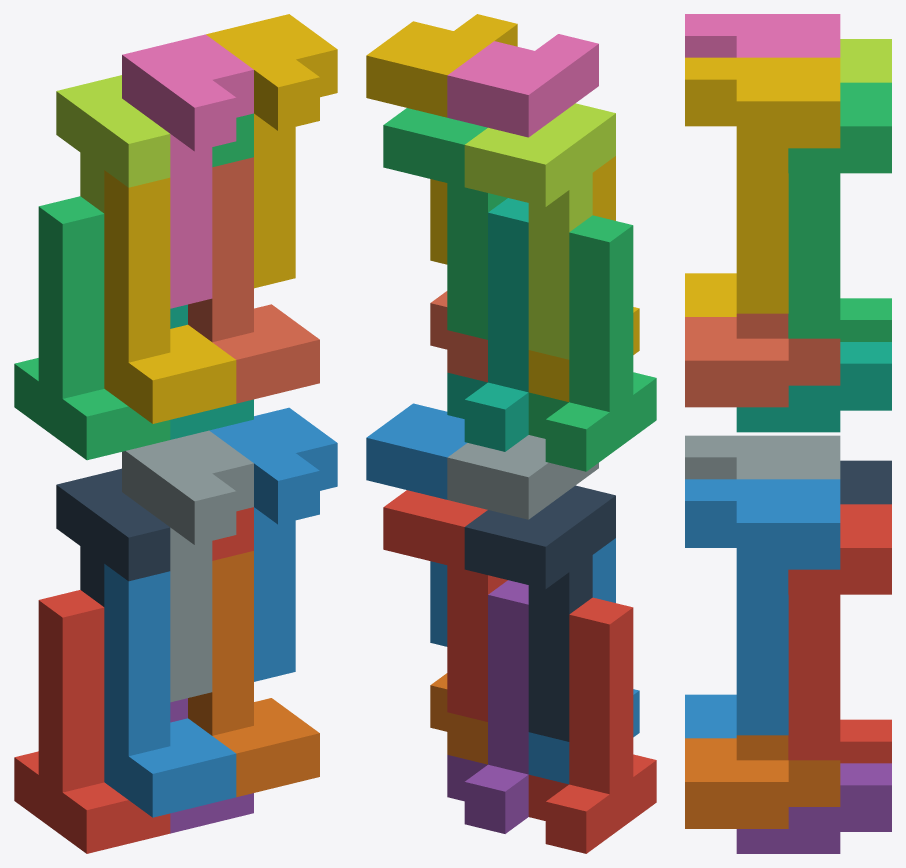
File: tiling.obj
3 renders of one model, left to right at view 1: azimuth 30°, elevation 25°; view 2: azimuth 150°, elevation 25°; view 3: azimuth 270°, elevation 25°, orthographic. The views are drawn at different scales.
Visible parts, largest first — view 1: copy_1_domain_4, copy_1_domain_2, copy_1_domain_1, copy_1_domain_3, copy_2_domain_4, copy_2_domain_2, copy_2_domain_8, copy_2_domain_6, copy_1_domain_8, copy_1_domain_6, copy_2_domain_3, copy_2_domain_1 (+4 smaller); view 2: copy_1_domain_1, copy_1_domain_3, copy_2_domain_1, copy_2_domain_3, copy_1_domain_7, copy_1_domain_5, copy_2_domain_5, copy_2_domain_7, copy_2_domain_4, copy_2_domain_8, copy_2_domain_6, copy_2_domain_2 (+4 smaller); view 3: copy_2_domain_8, copy_2_domain_6, copy_2_domain_5, copy_2_domain_7, copy_1_domain_8, copy_1_domain_6, copy_1_domain_7, copy_1_domain_5, copy_2_domain_2, copy_2_domain_4, copy_1_domain_1, copy_1_domain_2 (+4 smaller).
Boxes of the visible parts, x1,y1,x2,y2 form: copy_1_domain_4: (104,170,236,423); copy_1_domain_2: (104,564,236,817); copy_1_domain_1: (14,590,170,853); copy_1_domain_3: (14,196,170,460); copy_2_domain_4: (122,34,253,308); copy_2_domain_2: (122,430,253,702); copy_2_domain_8: (206,14,337,288); copy_2_domain_6: (209,407,337,681); copy_1_domain_8: (188,157,319,403); copy_1_domain_6: (188,551,319,797); copy_2_domain_3: (56,75,170,213); copy_2_domain_1: (56,468,170,606); copy_1_domain_1: (528,597,656,853); copy_1_domain_3: (528,215,656,471); copy_2_domain_1: (464,485,615,741); copy_2_domain_3: (464,103,615,359); copy_1_domain_7: (447,198,528,451); copy_1_domain_5: (447,580,528,833); copy_2_domain_5: (383,490,507,721); copy_2_domain_7: (383,108,507,339); copy_2_domain_4: (447,34,598,137); copy_2_domain_8: (366,14,517,264); copy_2_domain_6: (366,403,467,646); copy_2_domain_2: (447,435,598,519); copy_2_domain_8: (685,57,840,313); copy_2_domain_6: (685,479,840,735); copy_2_domain_5: (788,504,891,760); copy_2_domain_7: (788,82,891,338); copy_1_domain_8: (685,313,840,407); copy_1_domain_6: (685,735,840,828); copy_1_domain_7: (736,342,891,432); copy_1_domain_5: (736,763,891,853); copy_2_domain_2: (685,435,840,479); copy_2_domain_4: (685,14,840,57); copy_1_domain_1: (840,719,891,763); copy_1_domain_2: (685,694,736,738).
Size of the model in its own units: 6 by 17 by 4.
